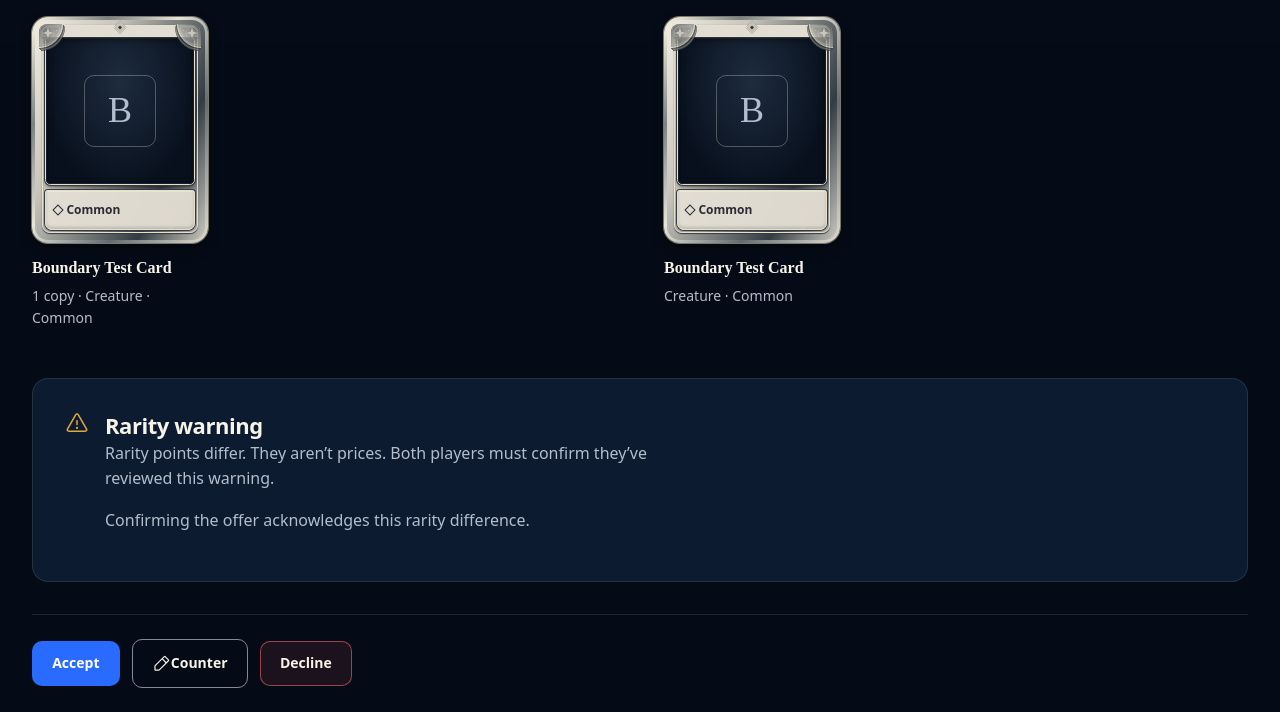
Scenario: trade detail action boundaries › confirms an incoming offer and its rarity warning once without redirecting to sign in
(page scrolled)
Click the button "Accept": [76, 664] box [32,641,120,686]
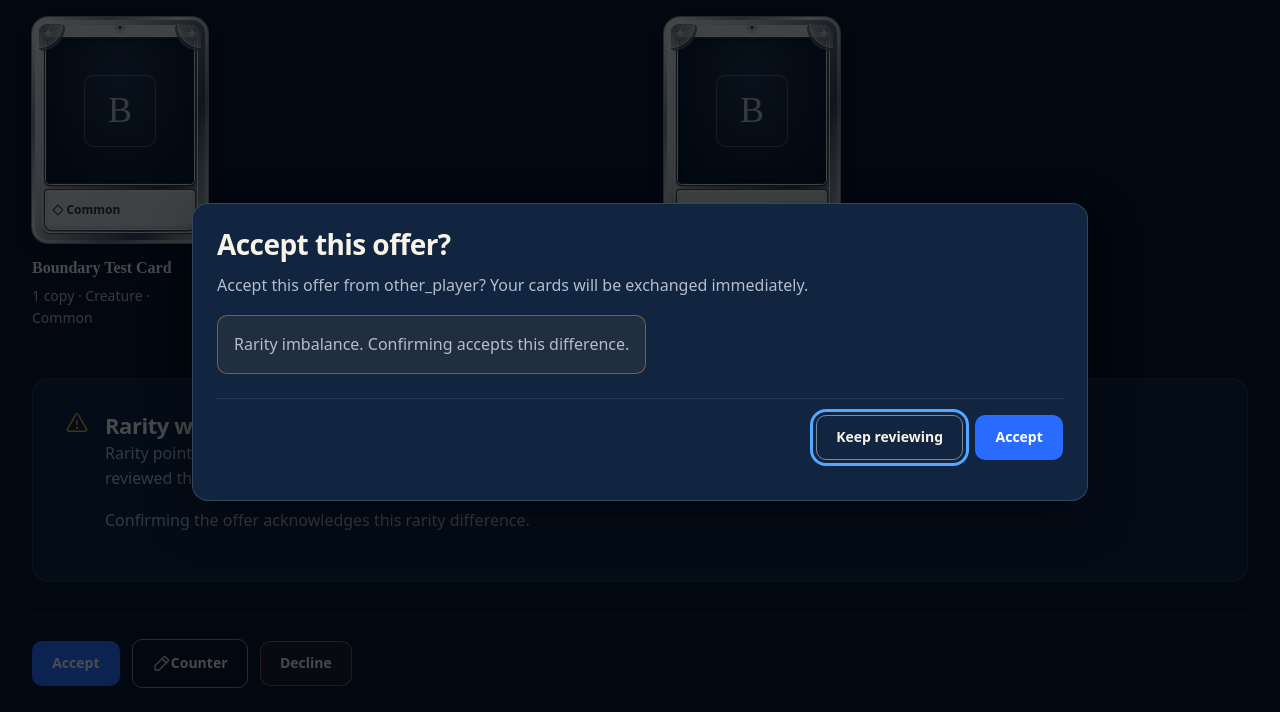
Expected: the dialog "Accept this offer?" shows "Your cards will be exchanged immediately", [217,274,808,296]
Expected: the dialog "Accept this offer?" shows "Rarity imbalance", [234,333,629,355]
Click the button "Accept": [1019, 438] box [975,415,1063,460]
(page scrolled)
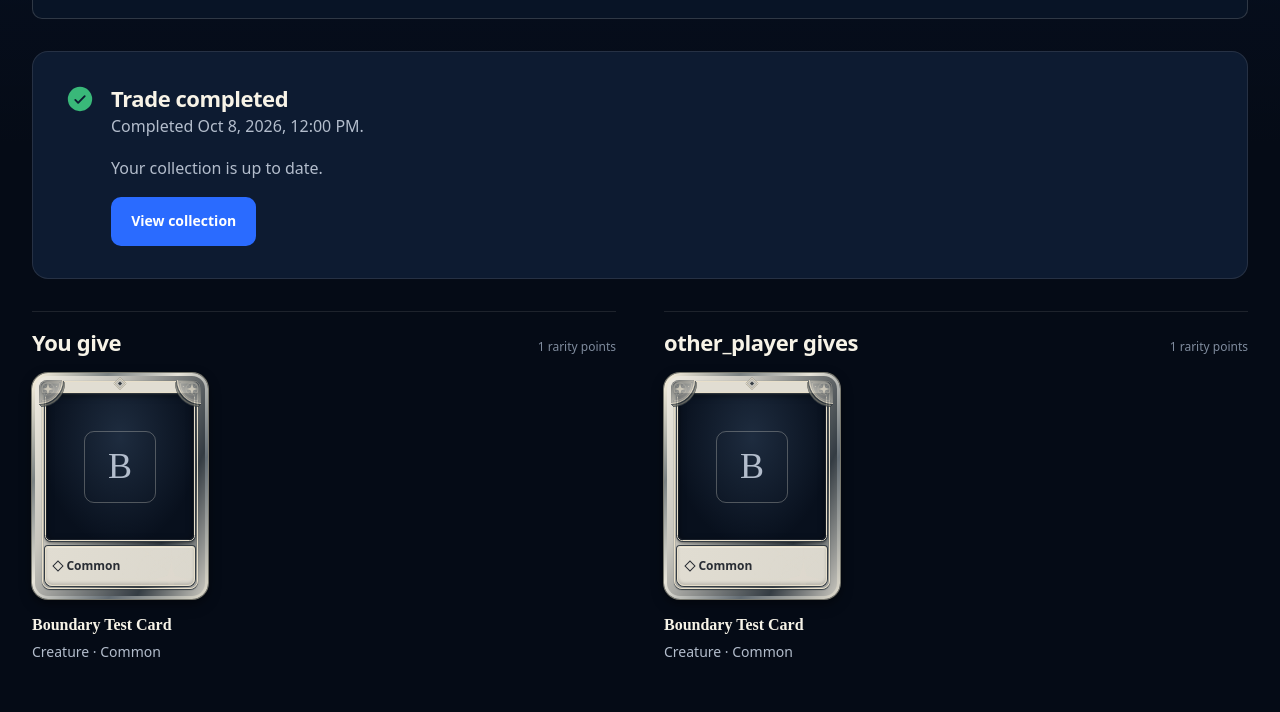
Expected: the heading "Trade completed" is shown, [111,83,288,113]
